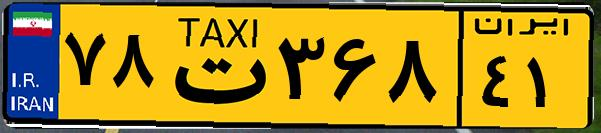1: (525, 38, 570, 115)
3: (270, 28, 330, 110)
4: (475, 38, 525, 113)
6: (330, 28, 385, 110)
7: (57, 26, 110, 100)
8: (385, 28, 445, 110), (110, 28, 158, 98)
ت: (158, 12, 270, 120)
